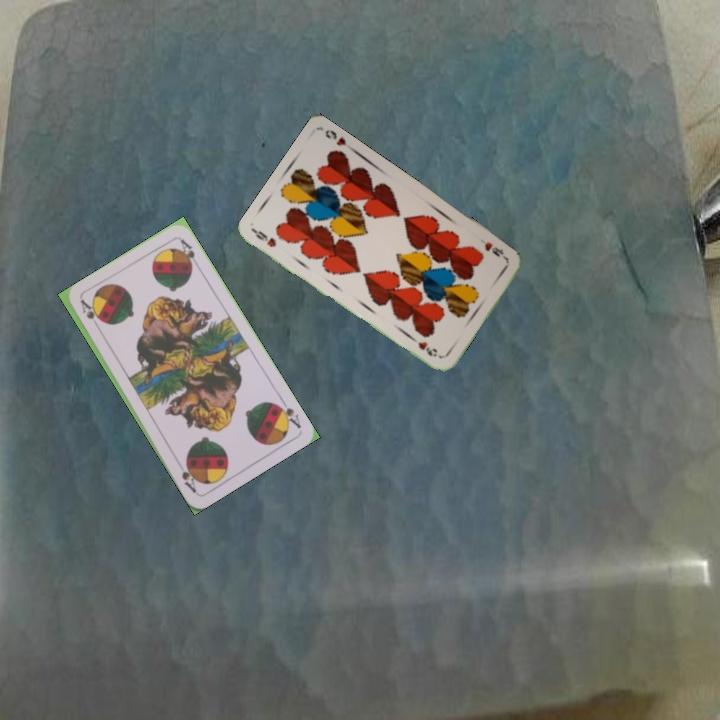H9: (476, 235, 509, 262), (250, 226, 279, 250)
SA: (271, 394, 304, 431), (77, 296, 103, 333)
